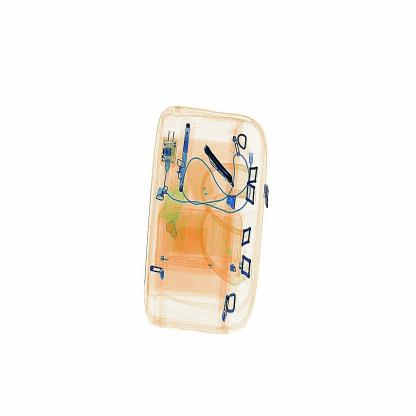knife: (206, 144, 236, 187)
